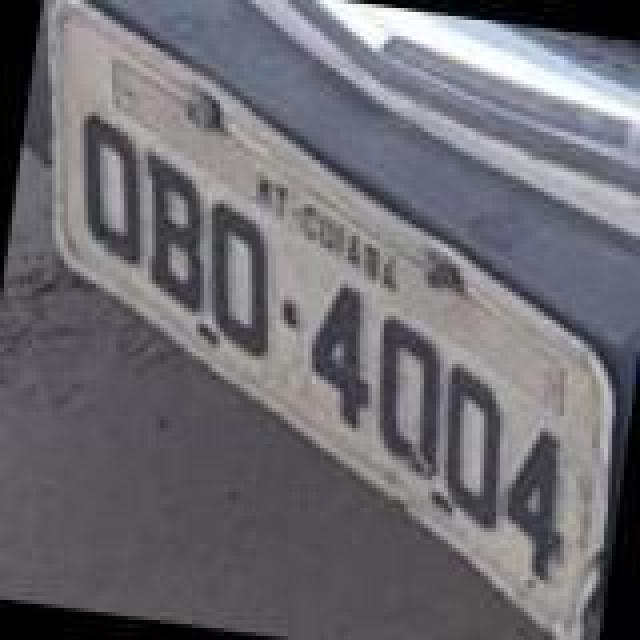4: (298, 280, 390, 432), (494, 424, 578, 584)
B: (122, 146, 222, 318)
O: (62, 112, 162, 272), (426, 362, 518, 534), (360, 318, 456, 482), (192, 200, 288, 360)
